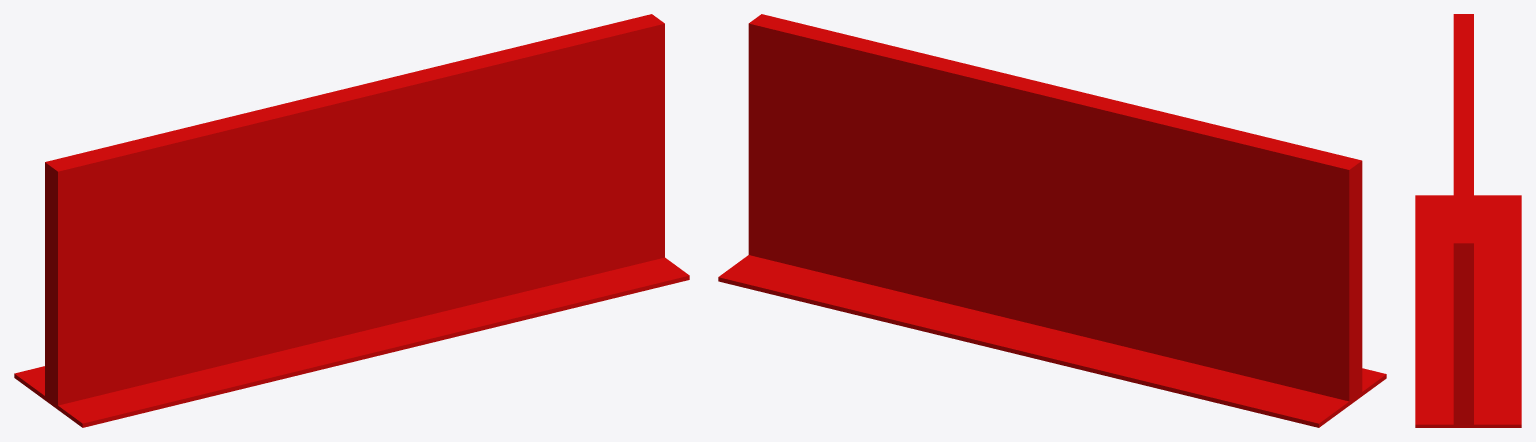
The model's file is SM_DoubleWindowCollider.fbx.
The picture shows the model from 3 angles, left to right: view 1: azimuth 30°, elevation 25°; view 2: azimuth 150°, elevation 25°; view 3: azimuth 270°, elevation 25°; orthographic projection. The views are drawn at different scales.
Parts seen in each view (by area): view 1: DoubleWindowCollision; view 2: DoubleWindowCollision; view 3: DoubleWindowCollision.
Boxes of the visible parts, bbox=[...] form: DoubleWindowCollision: bbox=[14, 14, 689, 427]; DoubleWindowCollision: bbox=[718, 14, 1386, 427]; DoubleWindowCollision: bbox=[1415, 14, 1521, 427].
Size of the model in its own units: 400 by 150 by 78.15.
